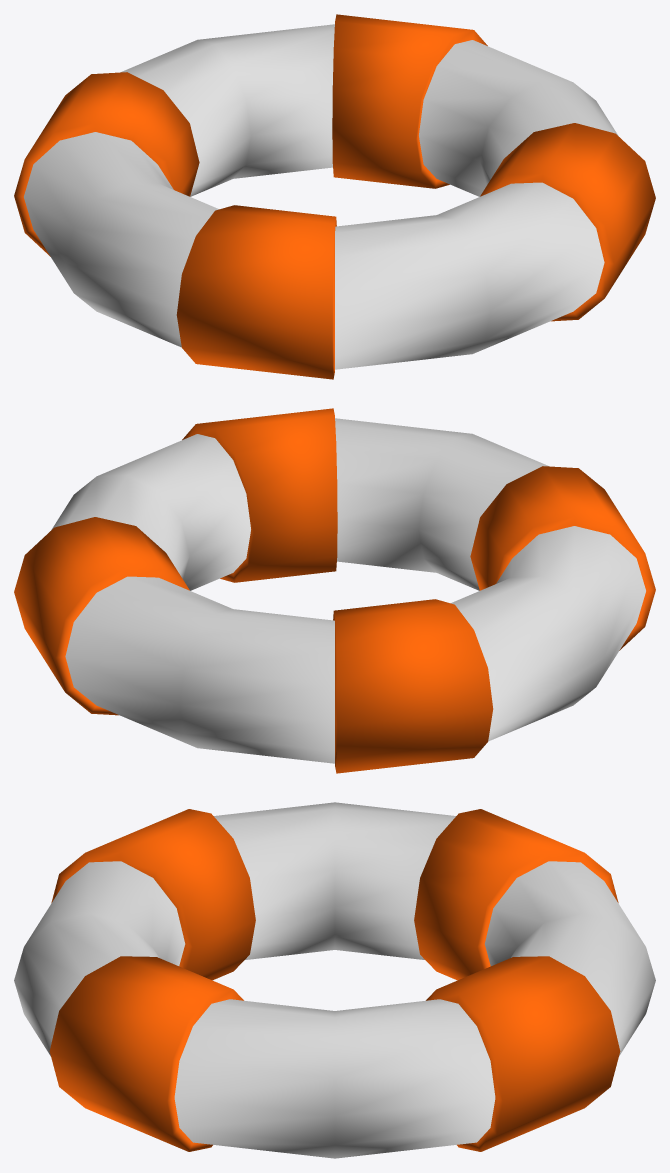
File: BoiaSalvaVidas1.fbx
3 views of the same model, one above another, from view 1: azimuth 30°, elevation 25°; view 2: azimuth 150°, elevation 25°; view 3: azimuth 270°, elevation 25° (orthographic). The views are drawn at different scales.
Visible parts, largest first — view 1: Torus; view 2: Torus; view 3: Torus.
Part boxes in pixels (x1,y1,x2,y2): Torus: (14,14,655,379); Torus: (14,408,655,773); Torus: (14,802,655,1158).
Bounding box in the file's own units: 130 × 34.2 × 130.
